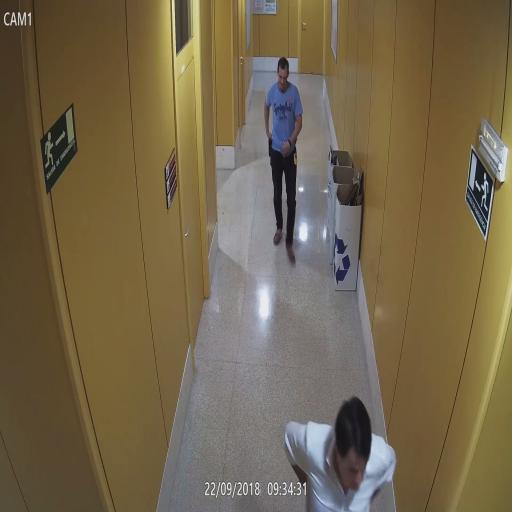Handgun: (266, 136, 274, 158)
